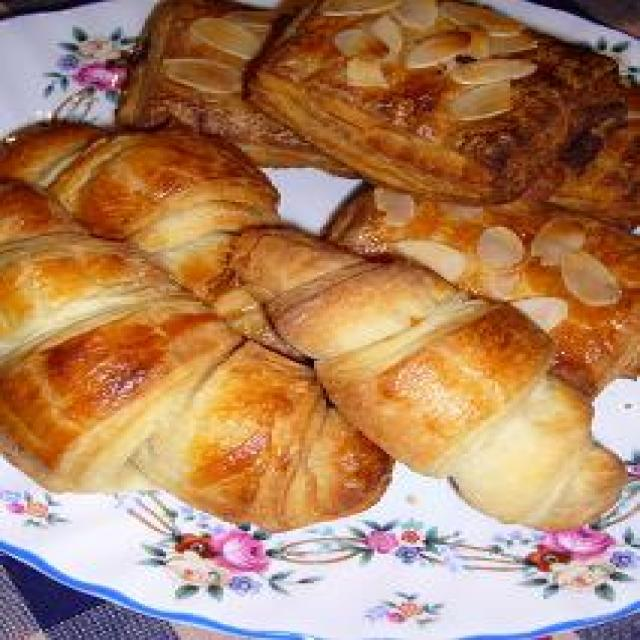Croissant: (0, 147, 386, 526)
